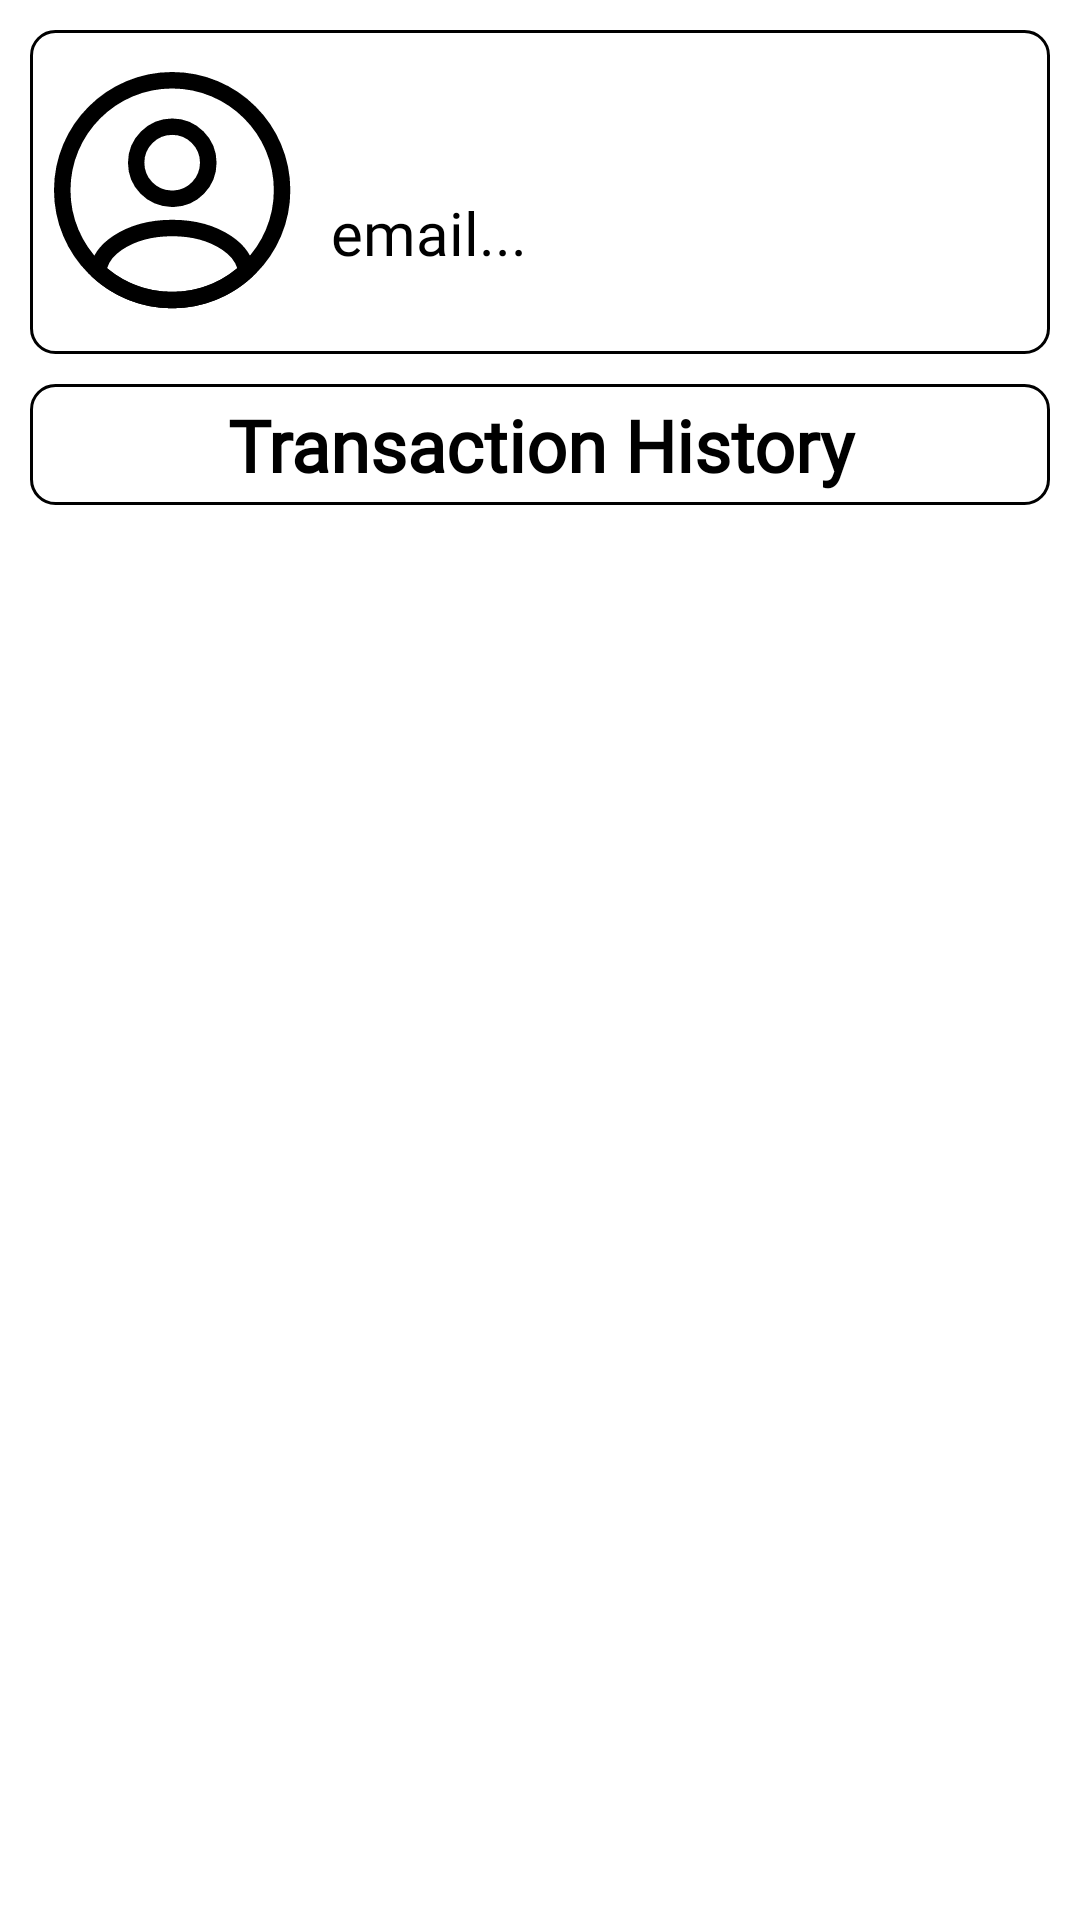

Locate icon controls on the screen. Image size 1080px x 1920px, boxes as (left=x1, top=y1, right=x2, bottom=y2).
profile: (left=54, top=72, right=291, bottom=309)
